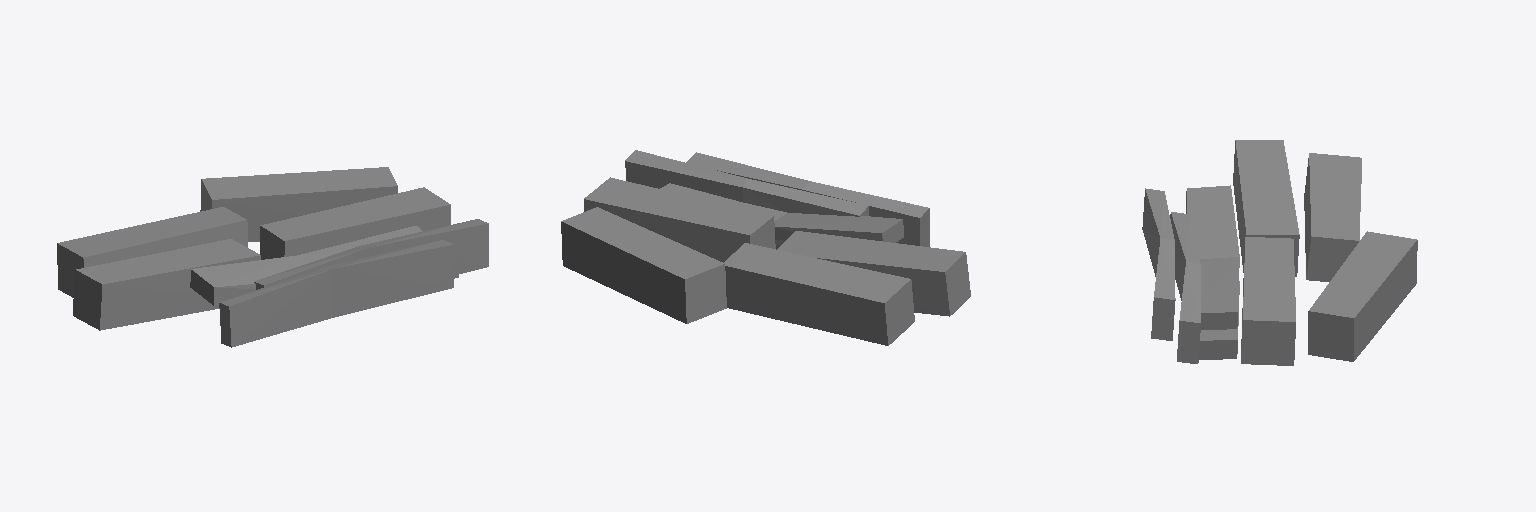
Rendered from ConstructionFences0.obj.
3 views of the same model, side by side, from view 1: azimuth 30°, elevation 25°; view 2: azimuth 150°, elevation 25°; view 3: azimuth 270°, elevation 25° (orthographic).
Visible parts, largest first — view 1: Construction0_fence_1_Mesh.014; view 2: Construction0_fence_1_Mesh.014; view 3: Construction0_fence_1_Mesh.014.
Part boxes in pixels (left/top/right/bottom): Construction0_fence_1_Mesh.014: left=57, top=167, right=488, bottom=347; Construction0_fence_1_Mesh.014: left=561, top=150, right=970, bottom=345; Construction0_fence_1_Mesh.014: left=1142, top=140, right=1417, bottom=365.
Size of the model in its own units: 2.74 by 0.4393 by 1.79.